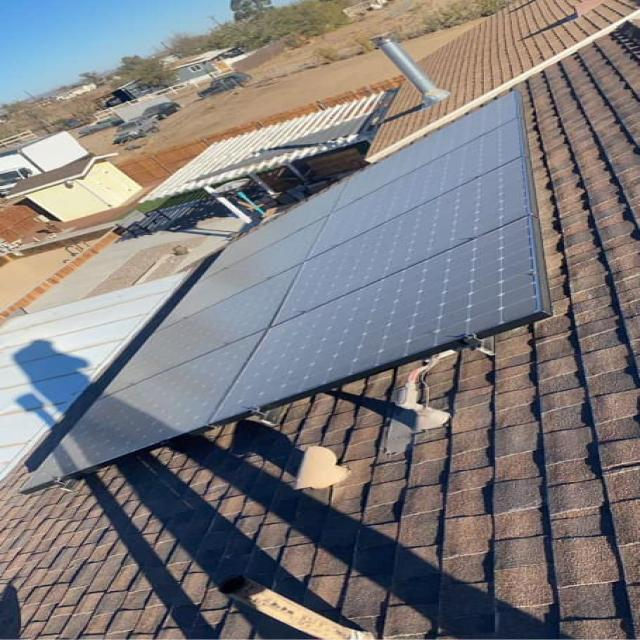dust-solar-panel: (12, 87, 540, 494)
